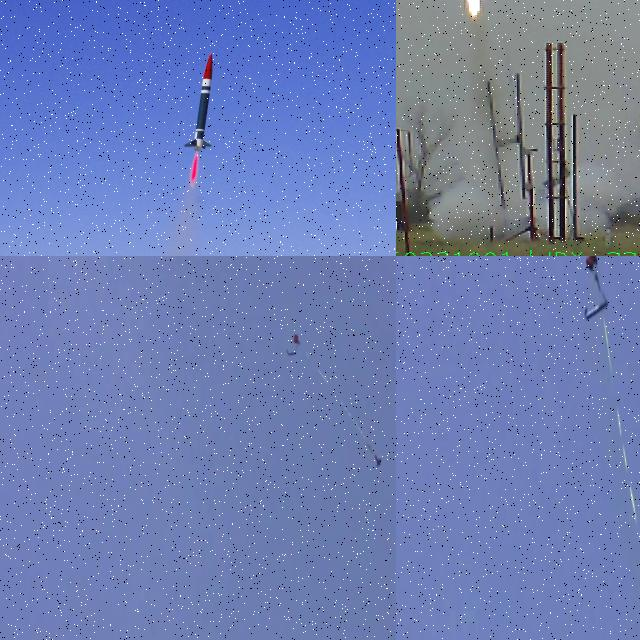Rocket: (184, 52, 214, 152), (374, 453, 382, 469)
